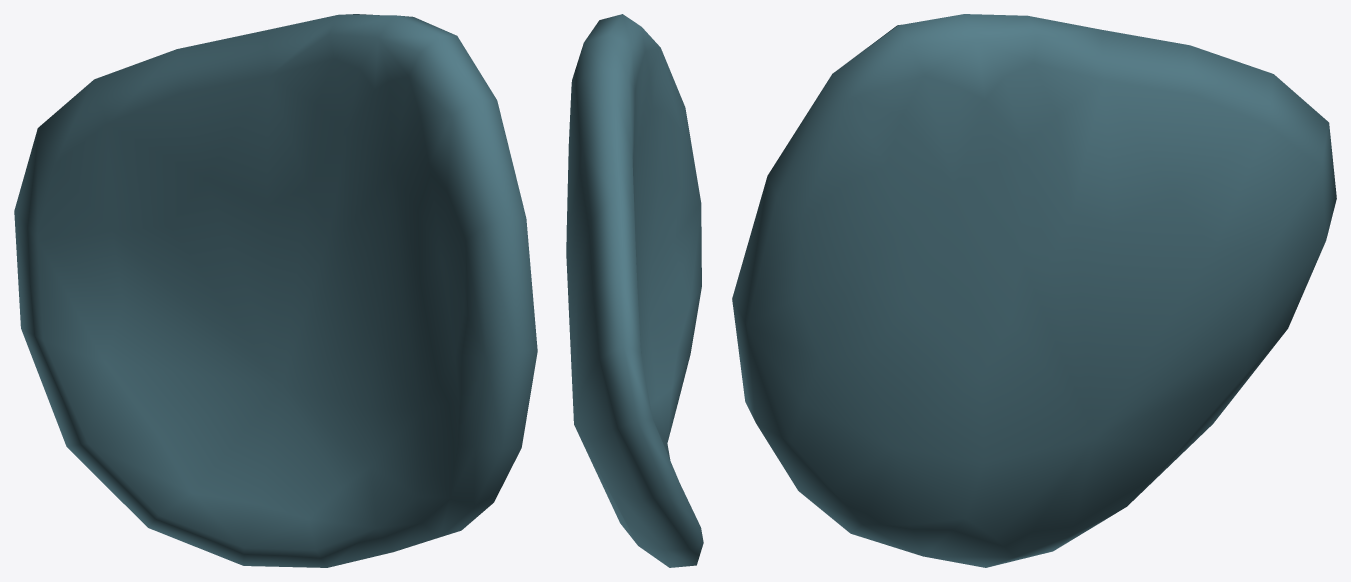
The model's file is Adductor_pollicis_brevis-Insertion.r_Generated_Mesh_From_X3D.50.glb.
The picture shows the model from 3 angles, left to right: view 1: azimuth 30°, elevation 25°; view 2: azimuth 150°, elevation 25°; view 3: azimuth 270°, elevation 25°; orthographic projection. The views are drawn at different scales.
Visible parts, largest first — view 1: Adductor_pollicis_brevis-Insertion.r_Generated_Mesh_From_X3D; view 2: Adductor_pollicis_brevis-Insertion.r_Generated_Mesh_From_X3D; view 3: Adductor_pollicis_brevis-Insertion.r_Generated_Mesh_From_X3D.
Boxes of the visible parts, box(x1,y1,x2,y2) form: Adductor_pollicis_brevis-Insertion.r_Generated_Mesh_From_X3D: box(14, 14, 537, 567); Adductor_pollicis_brevis-Insertion.r_Generated_Mesh_From_X3D: box(566, 14, 703, 567); Adductor_pollicis_brevis-Insertion.r_Generated_Mesh_From_X3D: box(732, 14, 1336, 567).
Size of the model in its own units: 0.00215 by 0.00401 by 0.00375.
